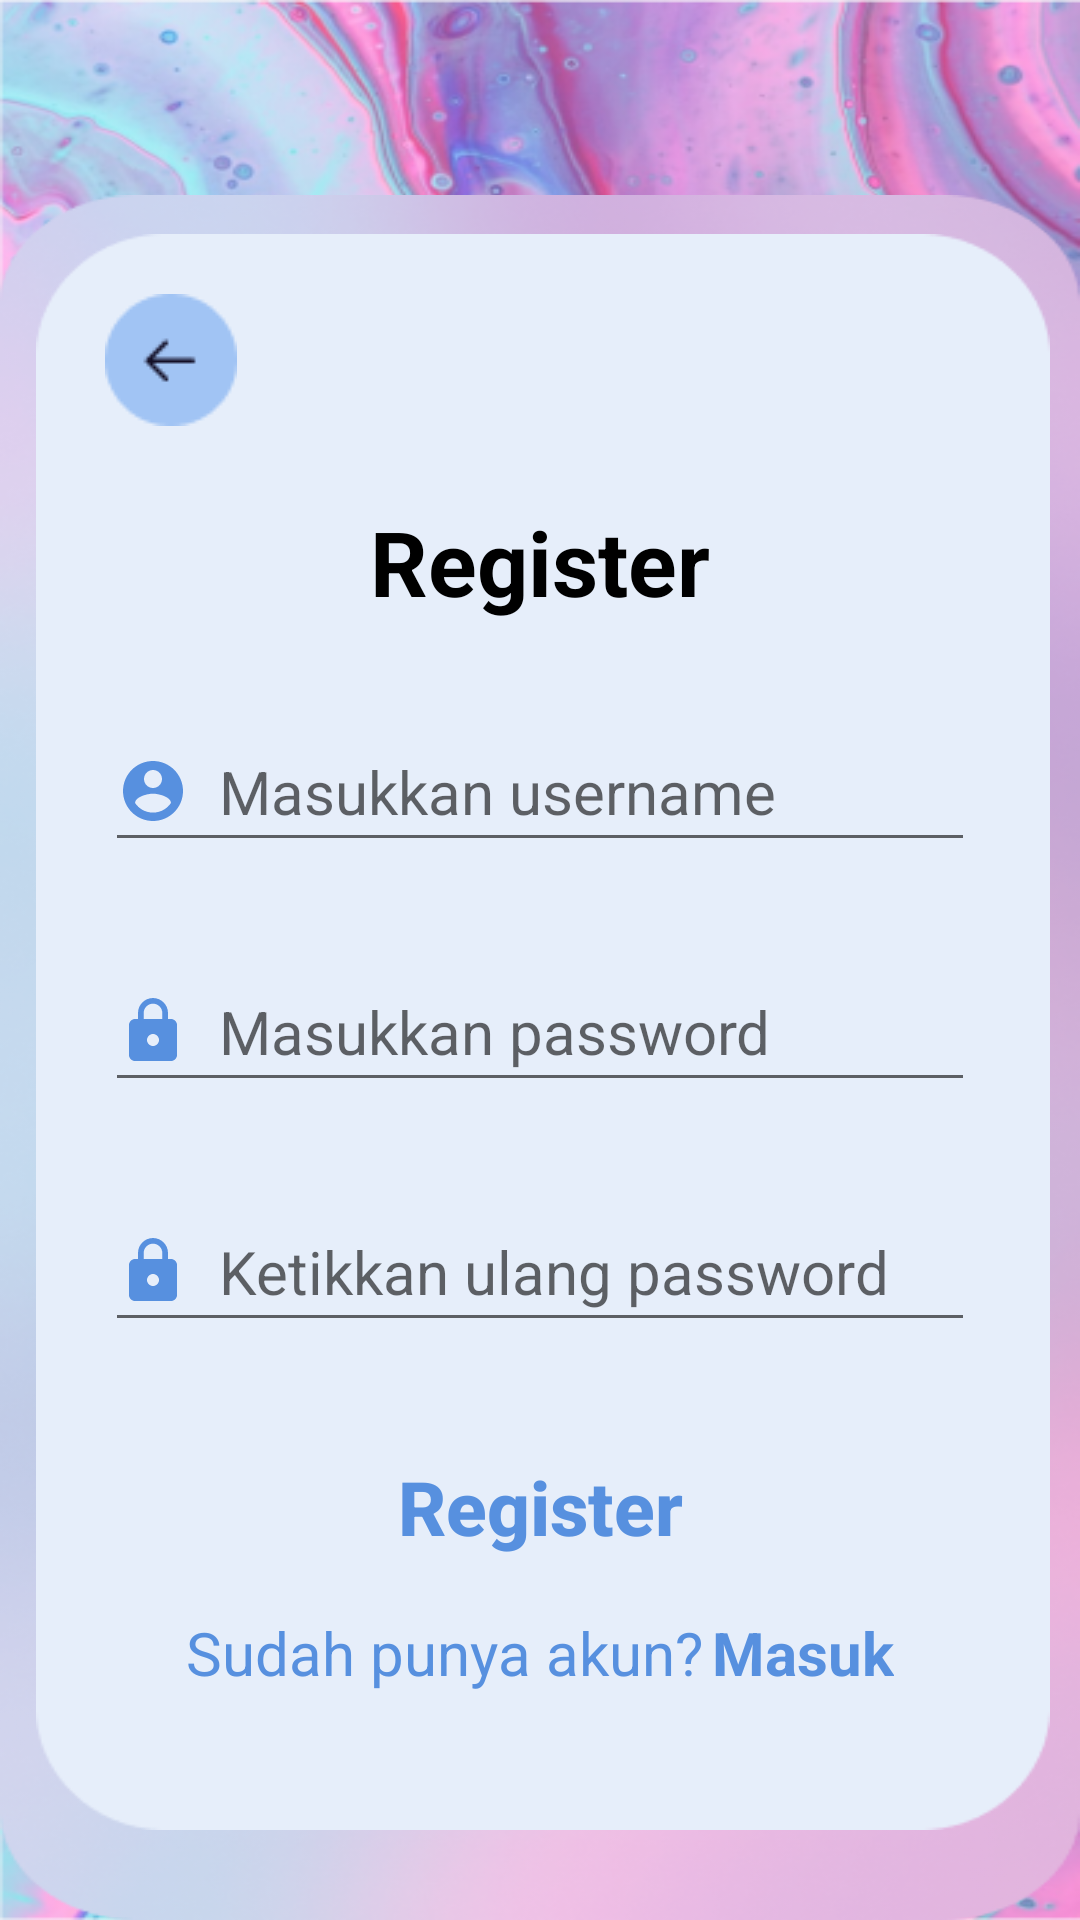

Icons on this 1080 x 1920 Android screen, each with its box as (x1, y1, x2, y2):
left: (105, 294, 237, 426)
